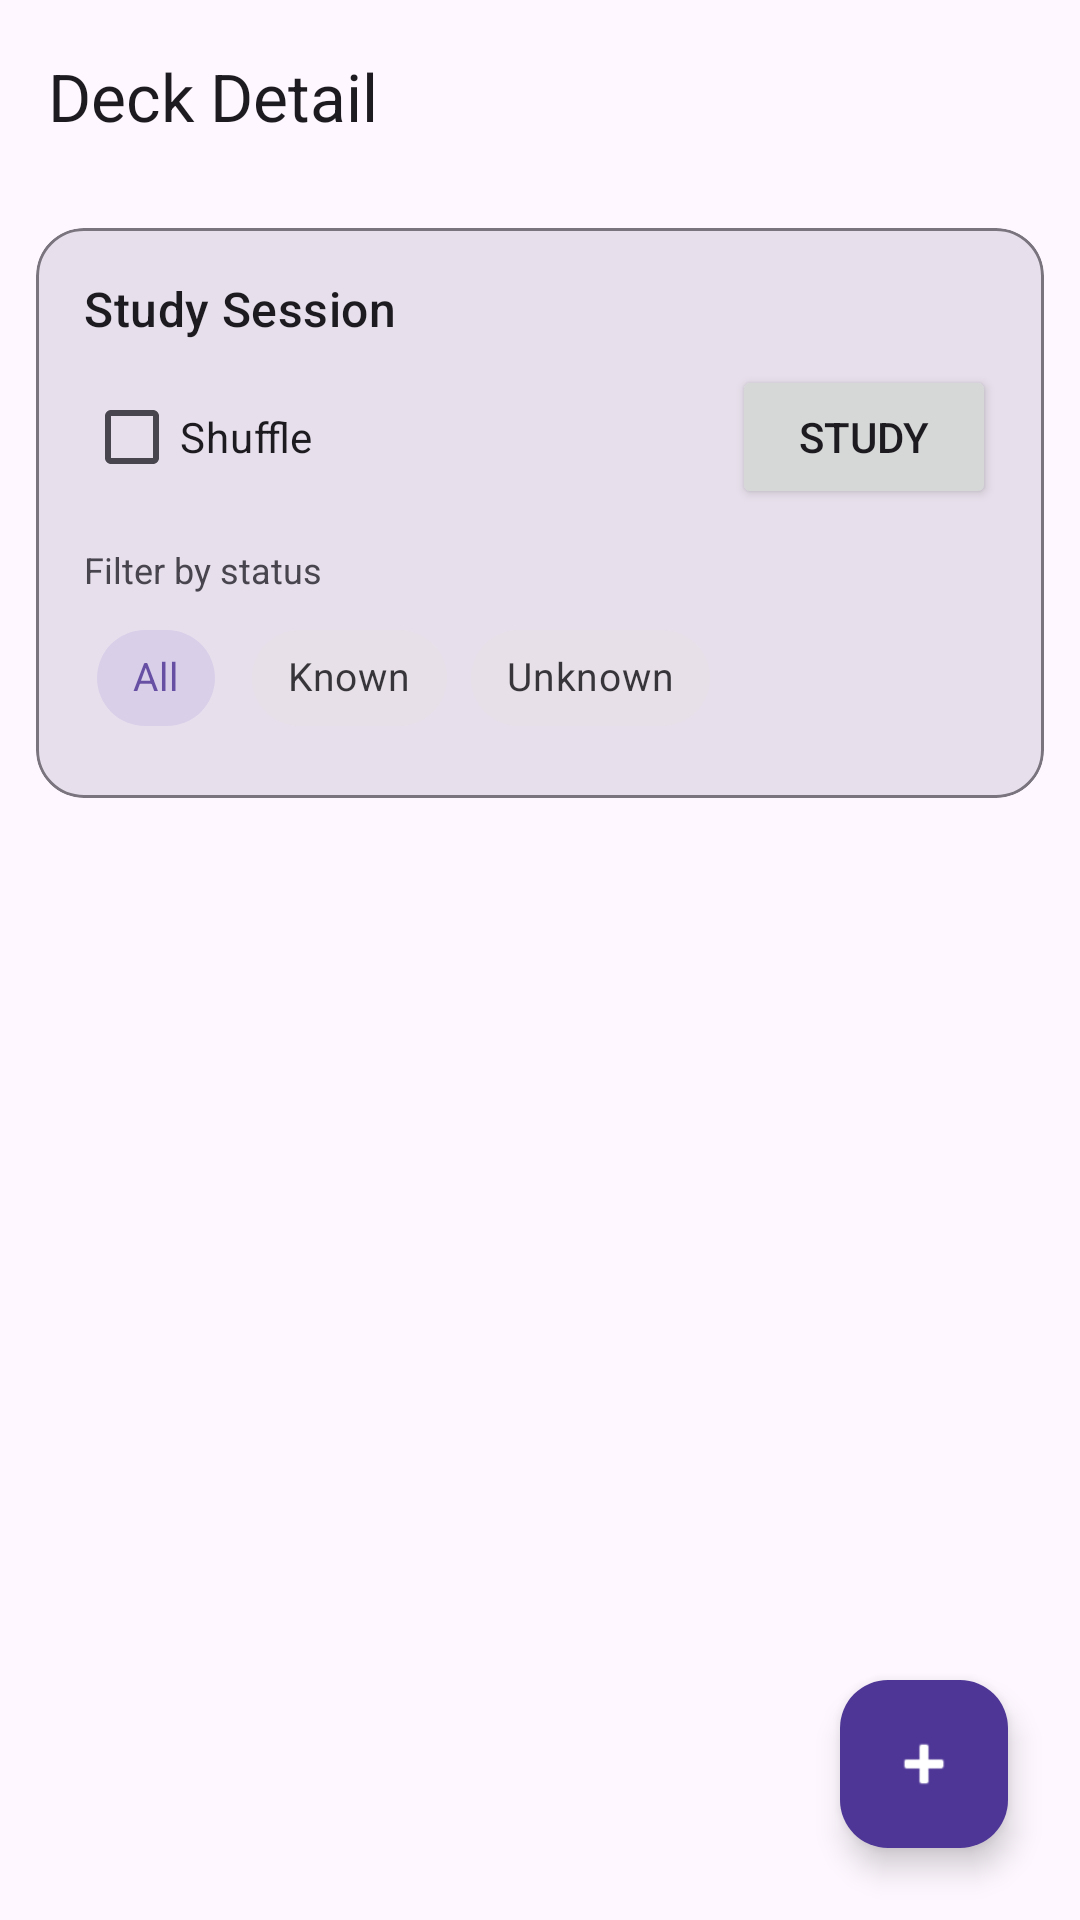

Icon bounding boxes for this 1080 × 1920 phone screenshot, format (x1=x1, y1=y1, x2=x2, y2=y2):
Add Card: (x1=840, y1=1680, x2=1008, y2=1848)
